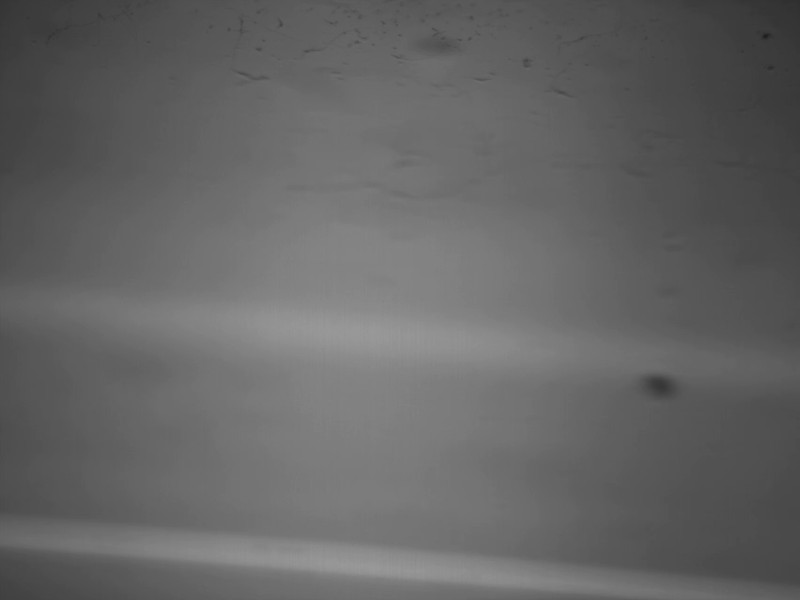bead: (637, 369, 677, 407)
